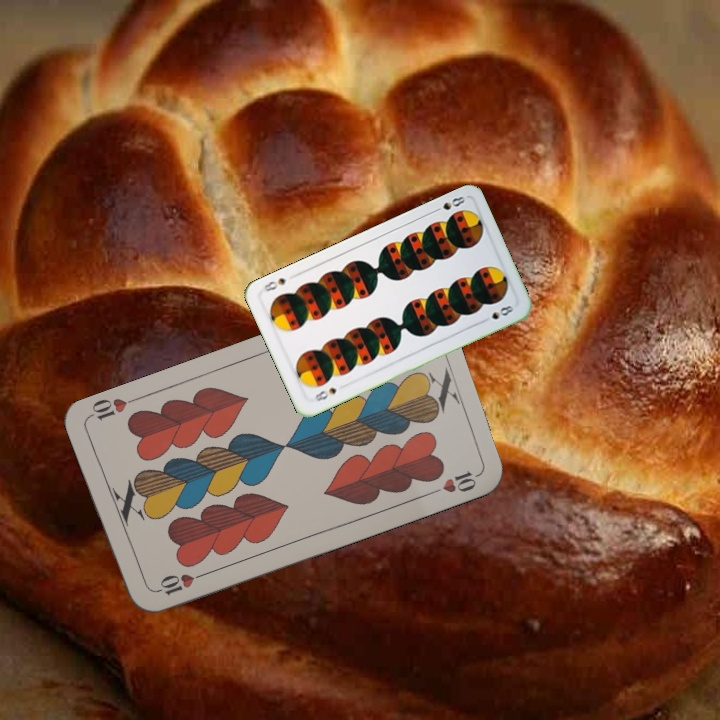H10: (150, 568, 208, 598)
S8: (429, 192, 468, 215), (311, 383, 339, 404)
